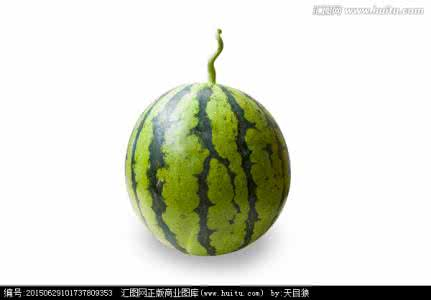watermelon: (113, 64, 297, 259)
